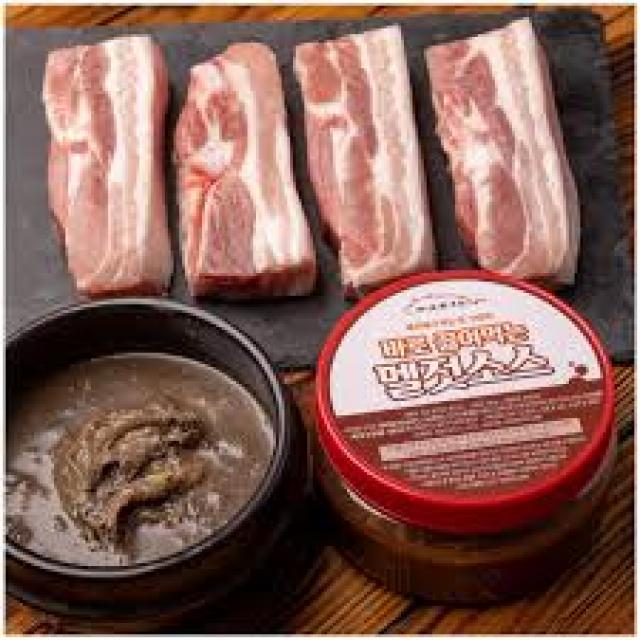Pork: (428, 17, 583, 283), (296, 26, 435, 286), (176, 43, 316, 300), (43, 34, 174, 299)
